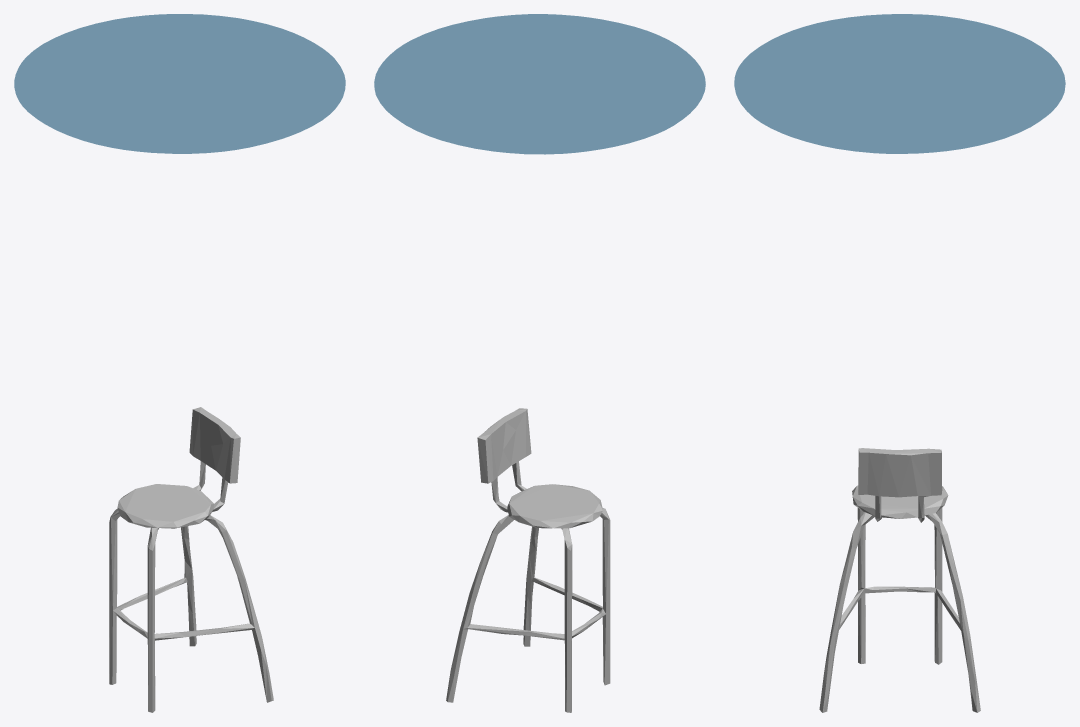
File: init.glb
The picture shows the model from 3 angles, left to right: view 1: azimuth 30°, elevation 25°; view 2: azimuth 150°, elevation 25°; view 3: azimuth 270°, elevation 25°; orthographic projection.
Parts seen in each view (by area): view 1: world, object.obj; view 2: world, object.obj; view 3: world, object.obj.
Boxes of the visible parts, x1=… form: world: x1=14, y1=14, x2=345, y2=153; object.obj: x1=109, y1=407, x2=273, y2=712; world: x1=374, y1=14, x2=705, y2=154; object.obj: x1=446, y1=408, x2=610, y2=712; world: x1=734, y1=14, x2=1065, y2=153; object.obj: x1=819, y1=448, x2=980, y2=712.
Bounding box in the file's own units: 0.4981 × 1 × 0.4981.
